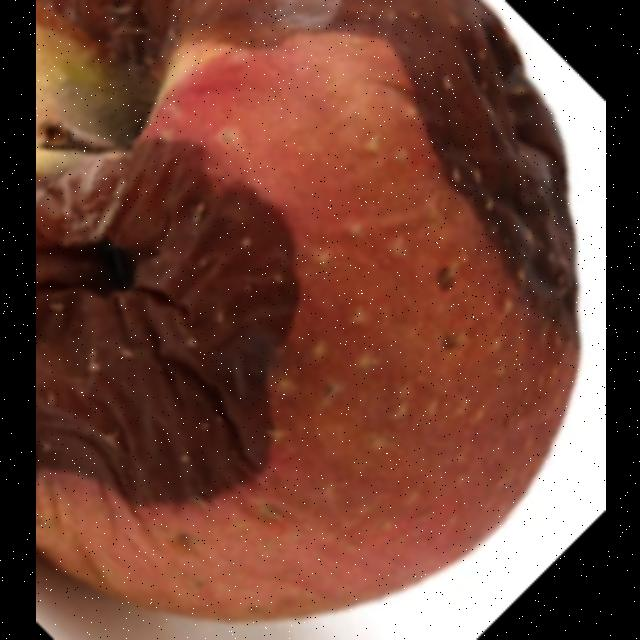Apel Tidak Segar: (36, 1, 590, 630)
